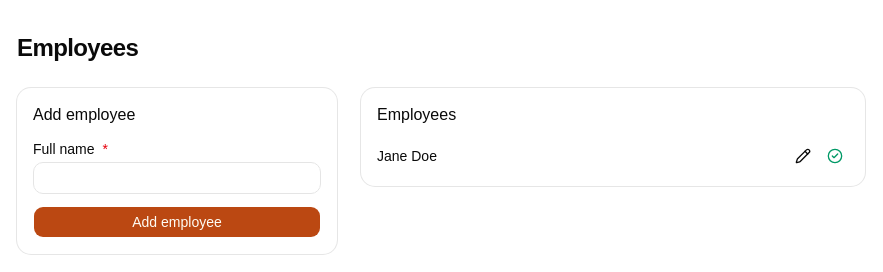
Test: Employees › toggles an employee's active state
Expected: the text "Jane Doe" is shown, [377,146,437,166]
Click the button named "Deactivate" at point(835, 156), box [821,142,849,170]
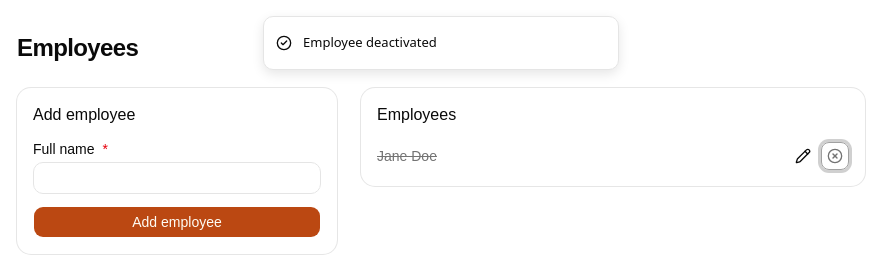
Result: the text "Employee deactivated" is shown at [303,33,437,52]
Click the button named "Activate" at point(835, 156), box [821,142,849,170]
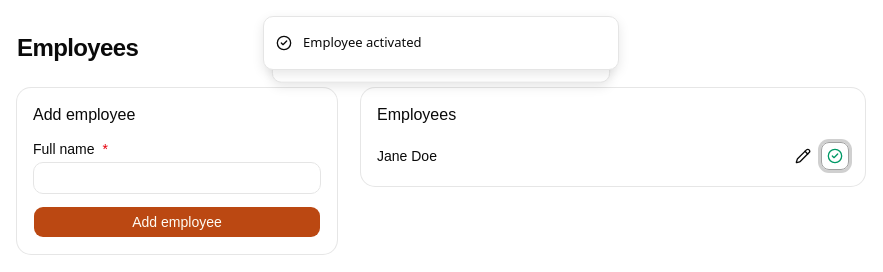
Result: the button named "Deactivate" is shown at [821,142,849,170]
Result: the text "Employee activated" is shown at [303,33,422,52]
